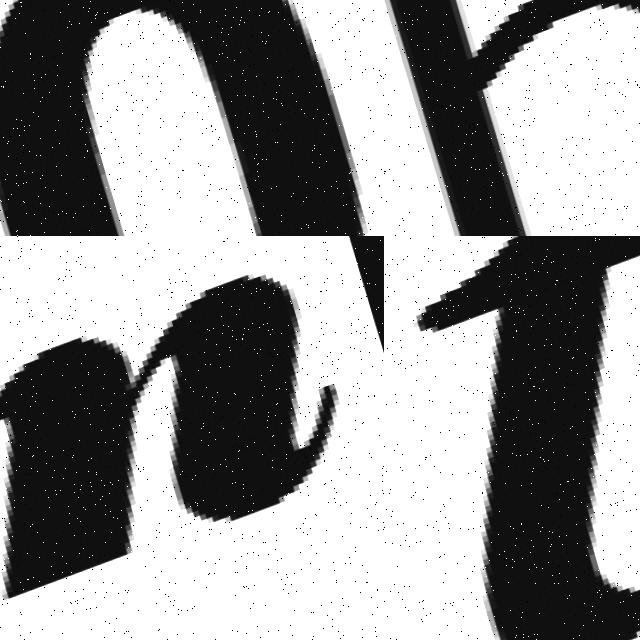0: (0, 0, 384, 236)
B: (387, 0, 640, 236)
M: (0, 243, 367, 640)
T: (384, 236, 640, 640)
